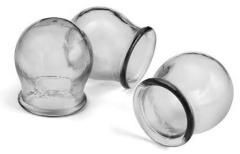glass: (14, 7, 236, 149)
